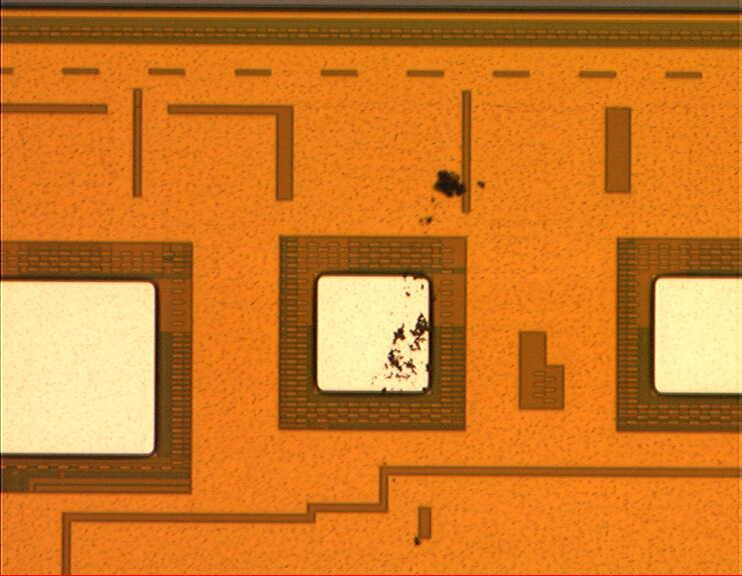PO CONTAMINATION: (370, 164, 494, 550)
